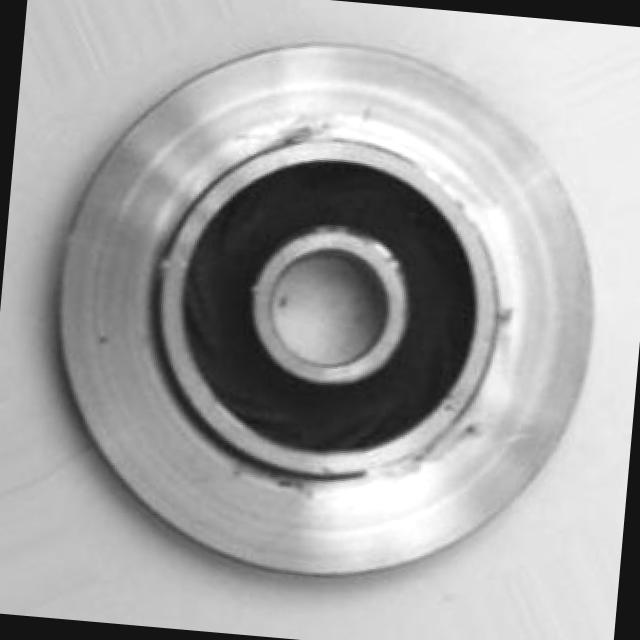Defect: (432, 400, 495, 458)
